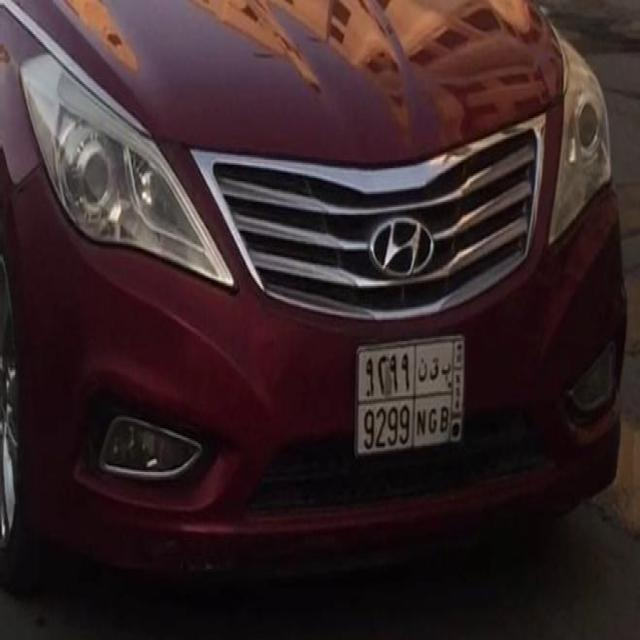Car-plate: (344, 312, 474, 477)
